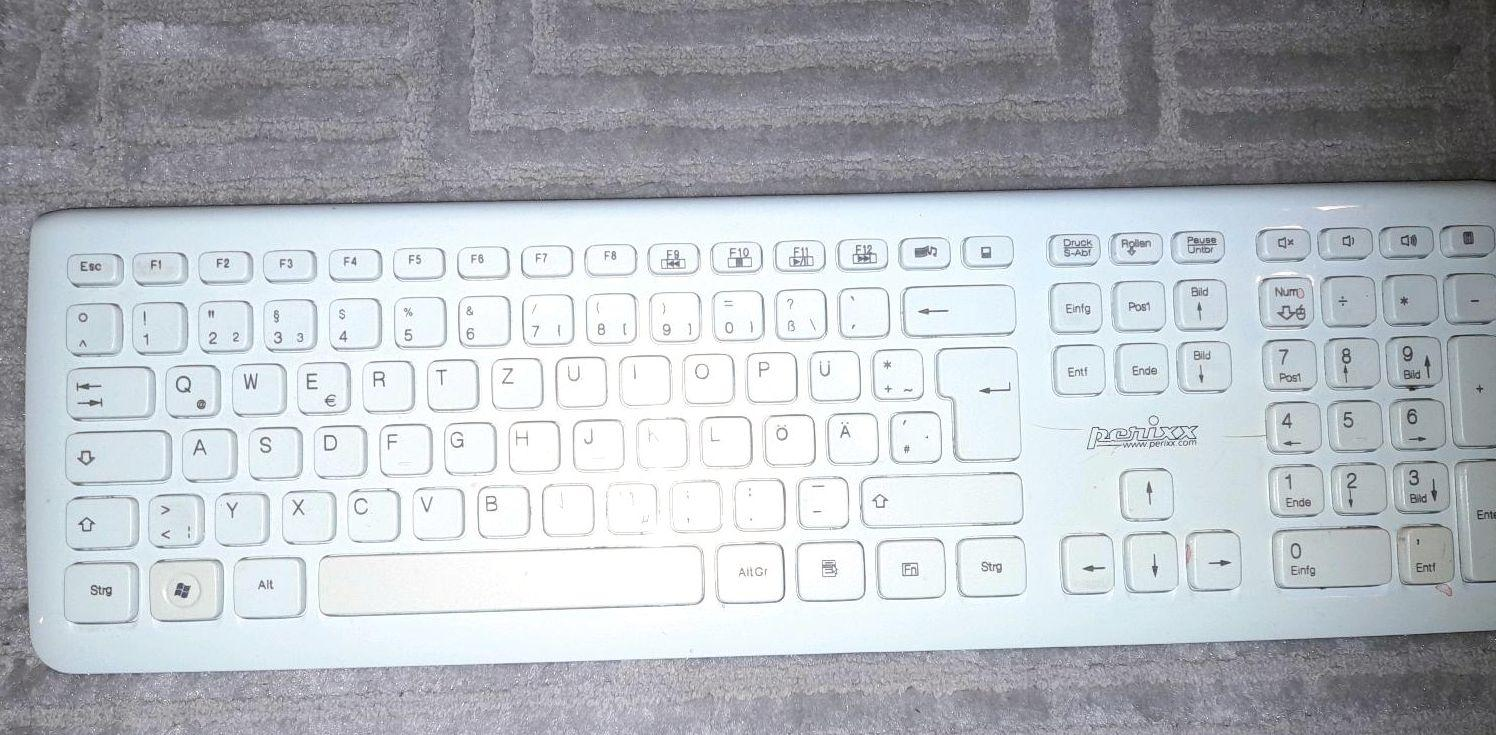0: (710, 287, 762, 340)
1: (130, 299, 185, 352)
2: (196, 297, 251, 350)
3: (260, 295, 315, 349)
4: (326, 294, 378, 346)
5: (390, 293, 443, 345)
6: (455, 293, 508, 345)
7: (520, 291, 572, 344)
8: (583, 290, 635, 343)
9: (646, 288, 698, 341)
a: (179, 424, 234, 478)
accent: (836, 284, 888, 336)
ae: (825, 409, 876, 462)
alt-left: (229, 553, 303, 616)
altgr-right: (713, 539, 784, 601)
b: (474, 482, 528, 535)
c: (344, 487, 397, 540)
caret: (62, 300, 119, 352)
comma: (667, 478, 719, 530)
d: (310, 422, 363, 475)
del: (900, 280, 1014, 333)
e: (295, 359, 348, 412)
enter: (932, 341, 1018, 460)
f: (377, 421, 429, 474)
g: (441, 419, 494, 472)
h: (506, 418, 558, 470)
hash: (888, 408, 940, 461)
i: (617, 352, 668, 403)
j: (570, 416, 622, 469)
k: (634, 414, 685, 466)
keyboard: (21, 184, 1491, 680)
l: (698, 413, 749, 465)
less: (145, 490, 202, 545)
m: (604, 479, 655, 532)
minus: (794, 474, 847, 527)
n: (540, 481, 593, 533)
o: (680, 350, 732, 402)
oe: (761, 411, 812, 463)
p: (743, 348, 794, 400)
plus: (869, 346, 921, 398)
point: (731, 476, 783, 529)
q: (162, 361, 219, 415)
r: (359, 357, 412, 409)
s: (245, 423, 299, 477)
shift-left: (61, 492, 135, 547)
shift-lock: (61, 425, 169, 481)
shift-right: (858, 469, 1022, 524)
space: (313, 543, 702, 615)
ss: (772, 286, 824, 338)
strg-left: (59, 558, 138, 622)
strg-right: (953, 532, 1026, 595)
t: (425, 356, 476, 408)
tab: (63, 362, 151, 417)
u: (553, 353, 605, 406)
ue: (806, 347, 858, 400)
v: (409, 484, 462, 537)
w: (229, 359, 283, 413)
x: (279, 487, 334, 541)
y: (212, 489, 266, 543)
z: (489, 354, 541, 407)
